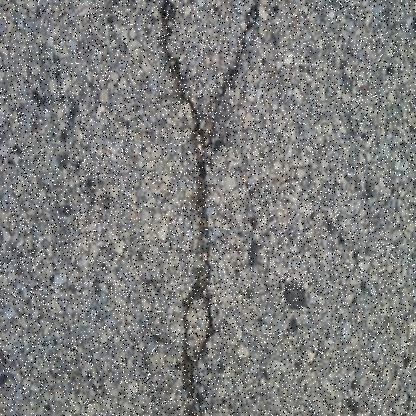Cracks: (160, 0, 262, 416)
